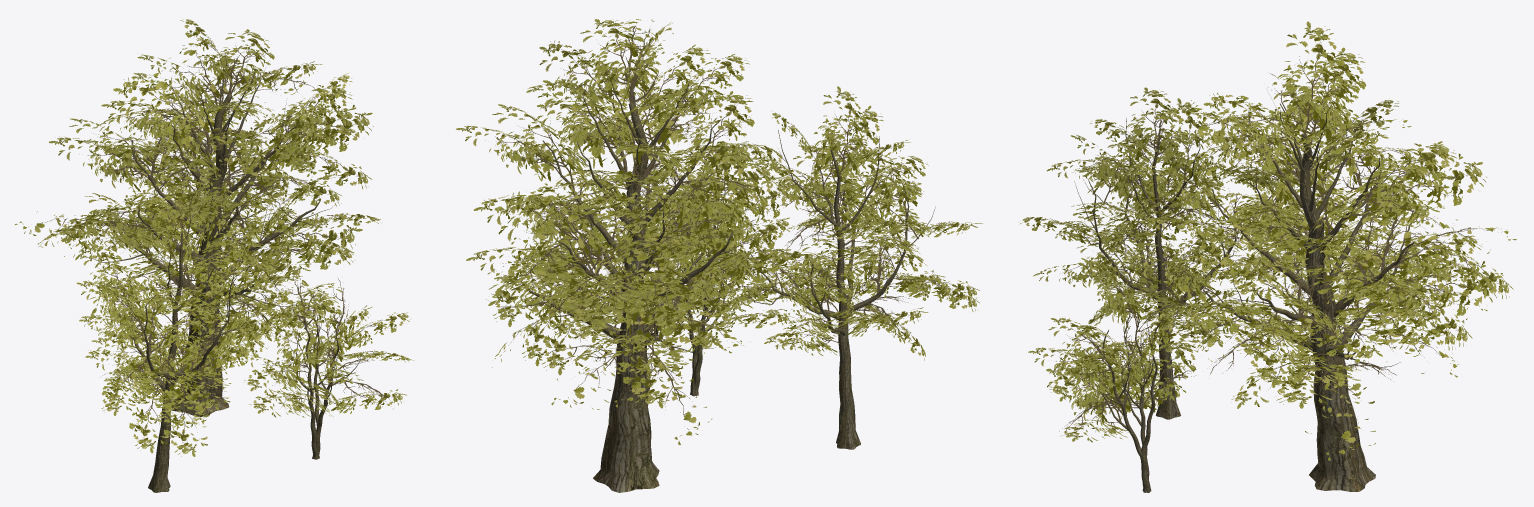
The model's file is tree_oak.glb.
3 views of the same model, side by side, from view 1: azimuth 30°, elevation 25°; view 2: azimuth 150°, elevation 25°; view 3: azimuth 270°, elevation 25° (orthographic). The views are drawn at different scales.
Visible parts, largest first — view 1: tree_oak; view 2: tree_oak; view 3: tree_oak.
Part boxes in pixels (x1,y1,x2,y2): tree_oak: (15, 19, 413, 492); tree_oak: (456, 19, 982, 492); tree_oak: (1019, 21, 1516, 492).
Size of the model in its own units: 6.95 by 7.2 by 7.32.
2 materials, 2 textured.
